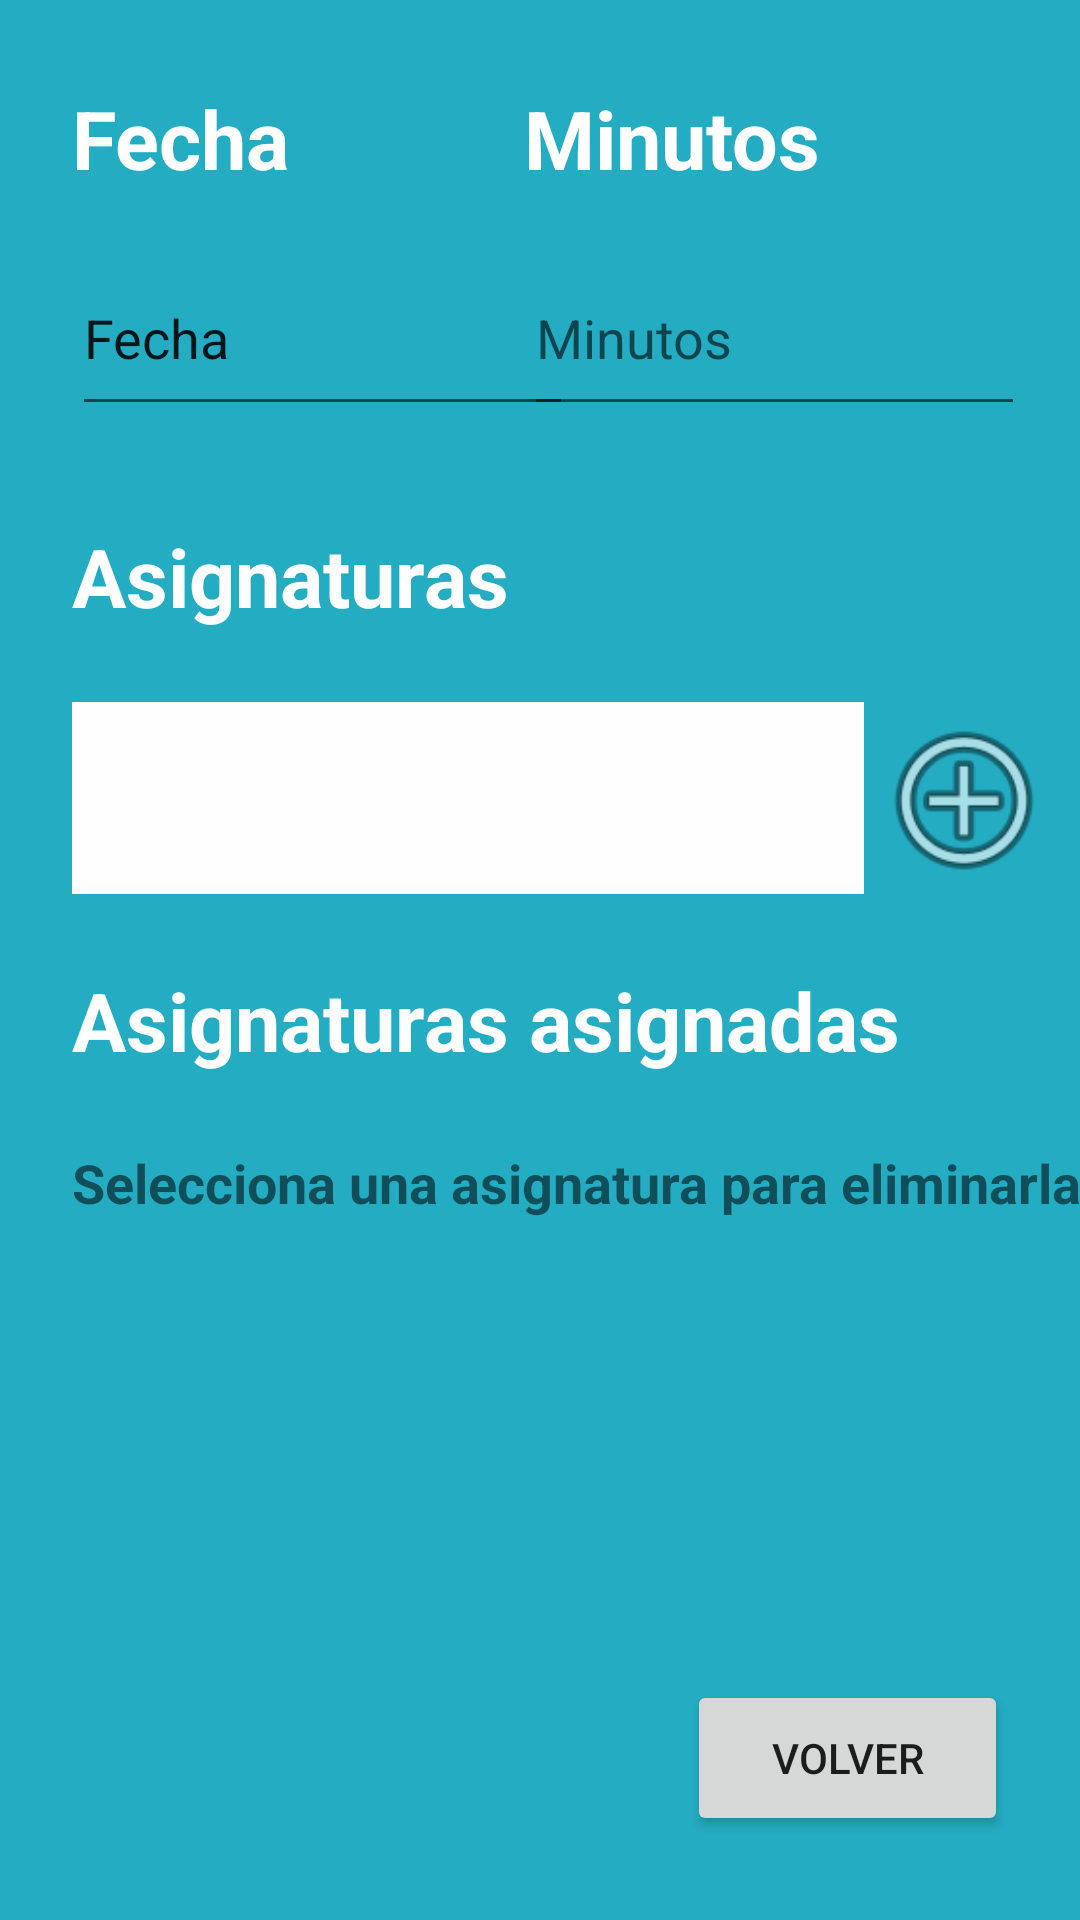

Where to tap for icons on this 1080x1920 app screen, as point (x, y):
add: point (964, 800)
